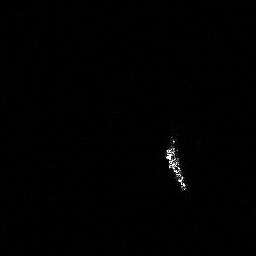ship: (159, 133, 192, 196)
